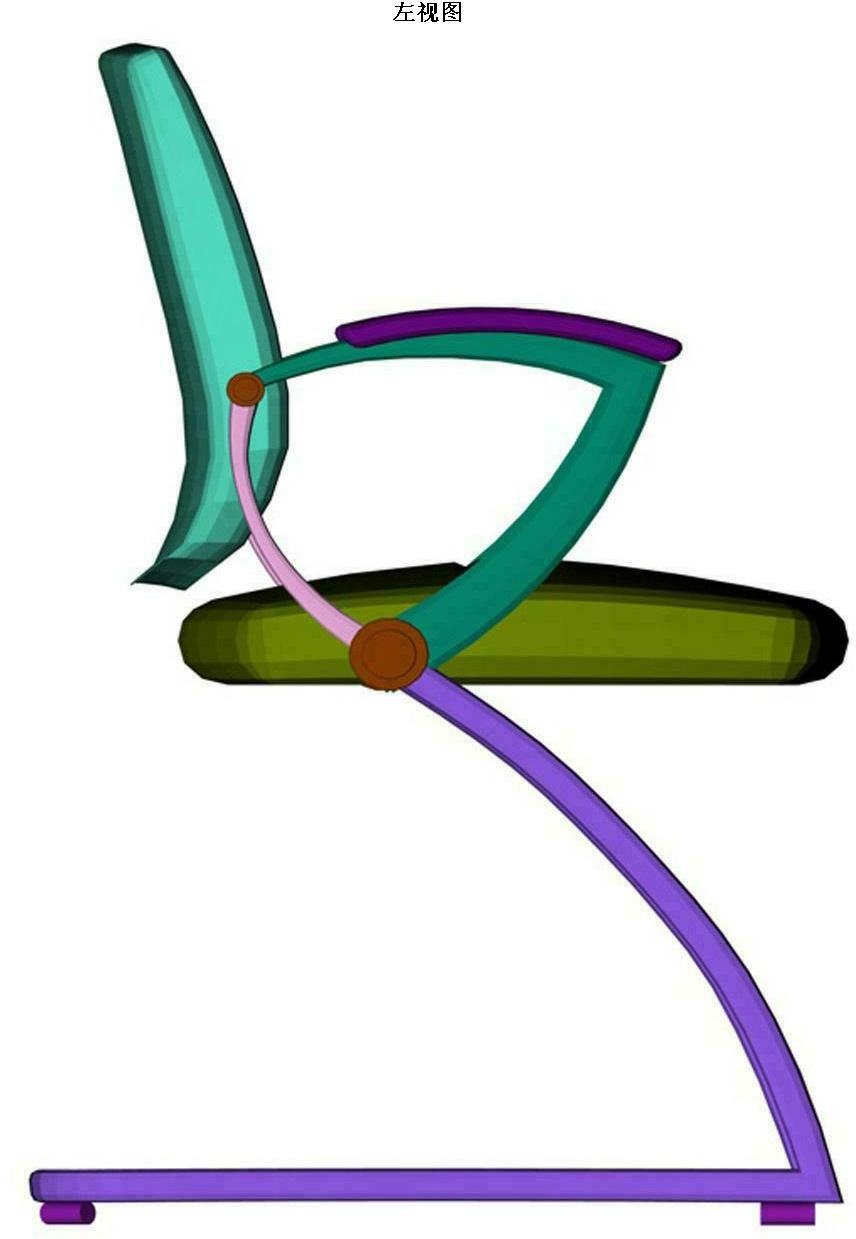obstacle: (31, 45, 843, 1224)
